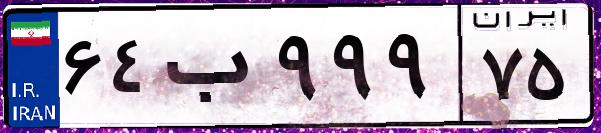4: (110, 28, 158, 98)
5: (525, 38, 570, 115)
6: (57, 26, 110, 100)
7: (475, 38, 525, 113)
9: (270, 28, 330, 110), (385, 28, 445, 110), (330, 28, 385, 110)
ب: (158, 20, 270, 120)
